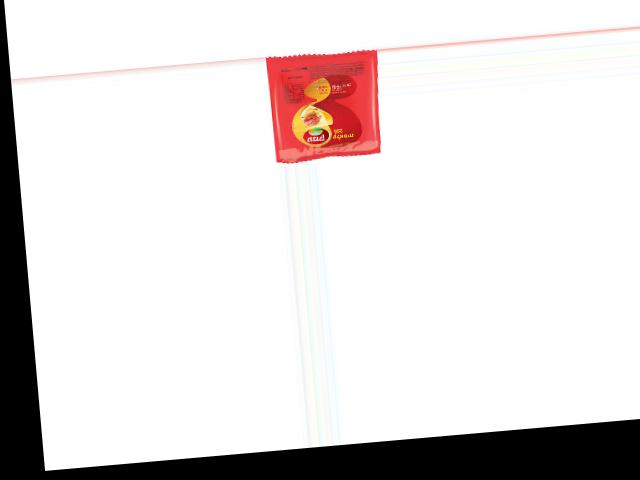cheese: (264, 47, 381, 163)
